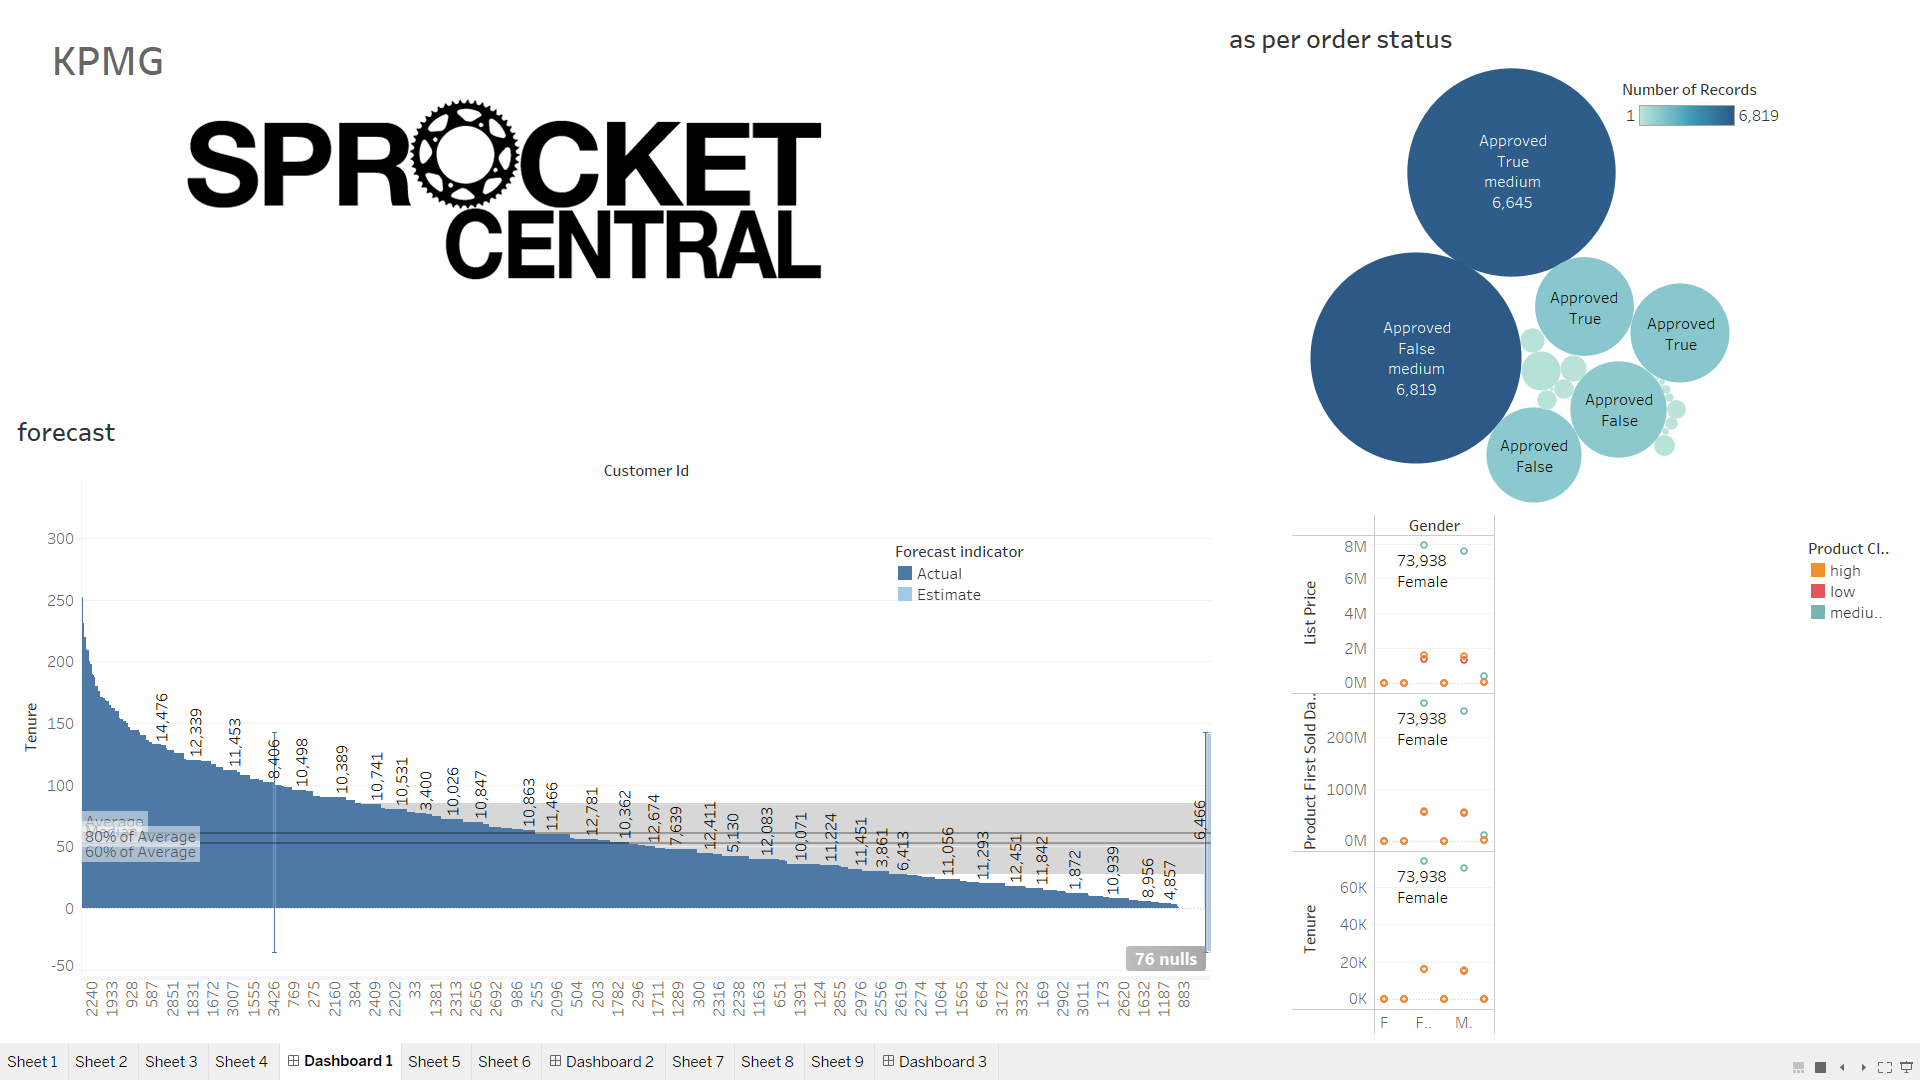

This screenshot's page, from the dashboard's own definition file:
{"tool":"tableau","page":{"name":"Dashboard 1","canvas":[1000,1000],"units":"permille","ordinal":0},"visuals":[{"type":"worksheet","title":"Sheet 2","mark":"Circle","box":[637.9,16,307.2,477.7]},{"type":"text","box":[24.7,39,112.9,34.4]},{"type":"legend","title":"Sheet 2","param":"[federated.10zzsdp0hoaa021cgm0eb0f26sjg].[sum:Number of Records:qk]","box":[844.9,75.6,84.5,100.8]},{"type":"image","param":"Image/sprocket_central_logo.png","box":[96.6,95.1,511.2,215.3]},{"type":"worksheet","title":"Sheet 3","mark":"Automatic","rows":["tenure"],"cols":["customer_id"],"box":[6.6,392.9,624,600.2]},{"type":"worksheet","title":"Sheet 1","mark":"Shape","rows":["list_price","product_first_sold_date","tenure"],"cols":["gender"],"box":[672.9,493.7,322.9,499.4]},{"type":"legend","title":"Sheet 1","param":"[federated.10zzsdp0hoaa021cgm0eb0f26sjg].[none:product_class:nk]","box":[941.5,515.5,42.9,112.3]},{"type":"legend","title":"Sheet 3","param":"[federated.10zzsdp0hoaa021cgm0eb0f26sjg].[none:Forecast Indicator:nk]","box":[465.9,518.9,84.5,73.3]}]}

Visuals, with their boxes on the dashboard's canvas, which has no fixed pixel size, in thousandths of its width and height (x1, y1, x2, y2). These are canvas units, not pixel positions in the 1920x1080 screenshot, which may show the page scaled, cropped or inside an application window:
"Sheet 2" worksheet (Circle marks): crop(638, 16, 945, 494)
text: crop(25, 39, 138, 73)
"Sheet 2" legend: crop(845, 76, 929, 176)
image: crop(97, 95, 608, 310)
"Sheet 3" worksheet: crop(7, 393, 631, 993)
"Sheet 1" worksheet (Shape marks): crop(673, 494, 996, 993)
"Sheet 1" legend: crop(942, 516, 984, 628)
"Sheet 3" legend: crop(466, 519, 550, 592)
